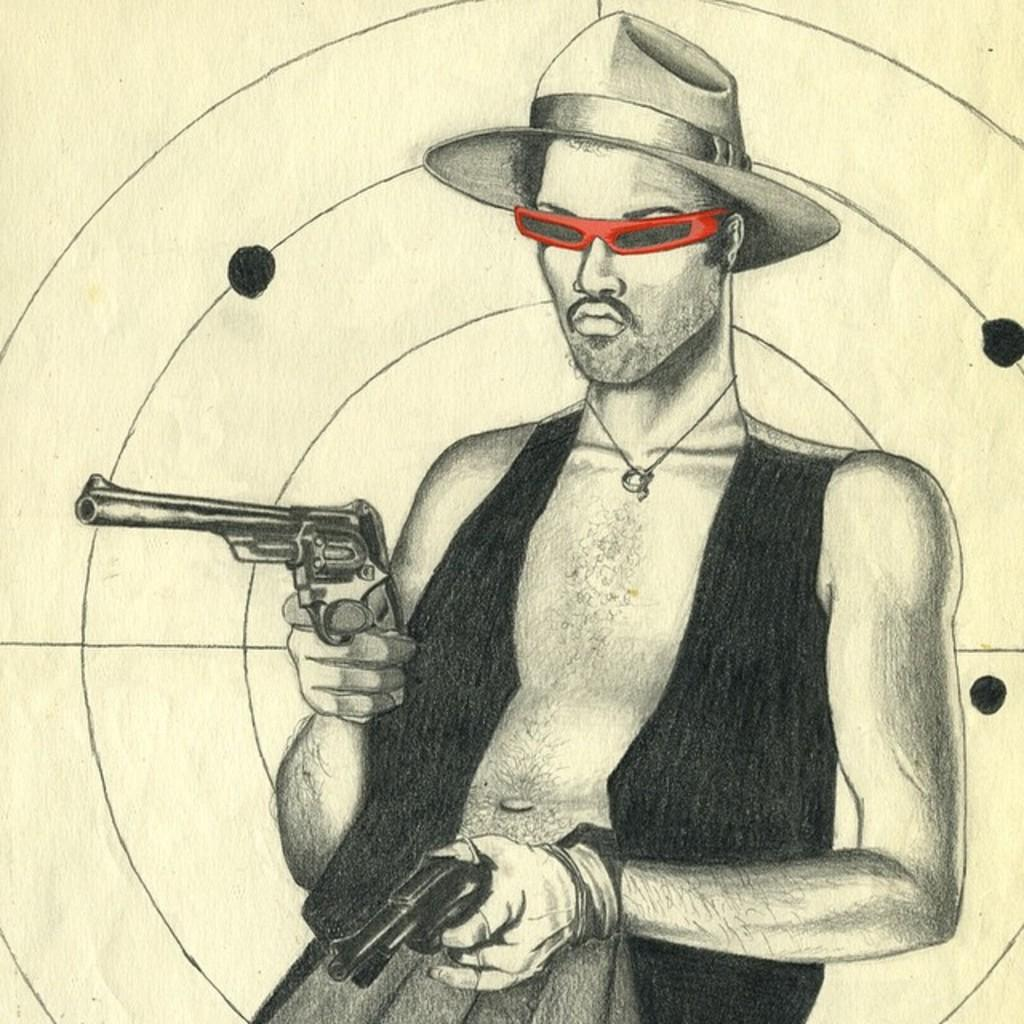Hat: (418, 6, 836, 267)
